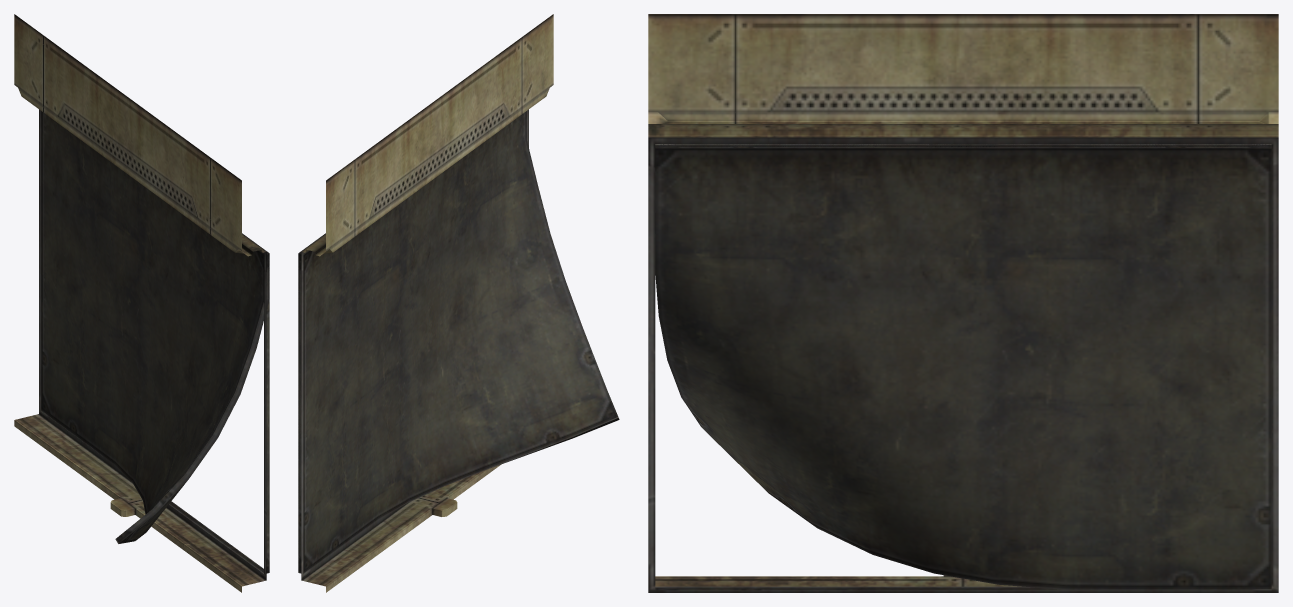
The model's file is pplant_ground_blank_damaged01.dae.
The picture shows the model from 3 angles, left to right: view 1: azimuth 30°, elevation 25°; view 2: azimuth 150°, elevation 25°; view 3: azimuth 270°, elevation 25°; orthographic projection. The views are drawn at different scales.
Parts seen in each view (by area): view 1: ground_blank_damaged01; view 2: ground_blank_damaged01; view 3: ground_blank_damaged01.
Part boxes in pixels (box(x1,y1,x2,y2)): ground_blank_damaged01: box(14, 14, 269, 592); ground_blank_damaged01: box(298, 14, 619, 592); ground_blank_damaged01: box(648, 14, 1278, 592).
Size of the model in its own units: 1.28 by 4 by 4.
